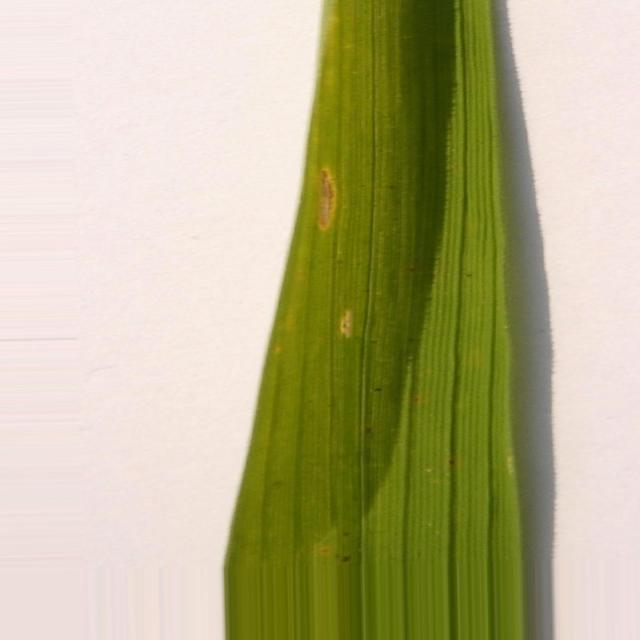Bacterial_Leaf_Blight: (316, 169, 336, 230), (339, 309, 354, 338)
